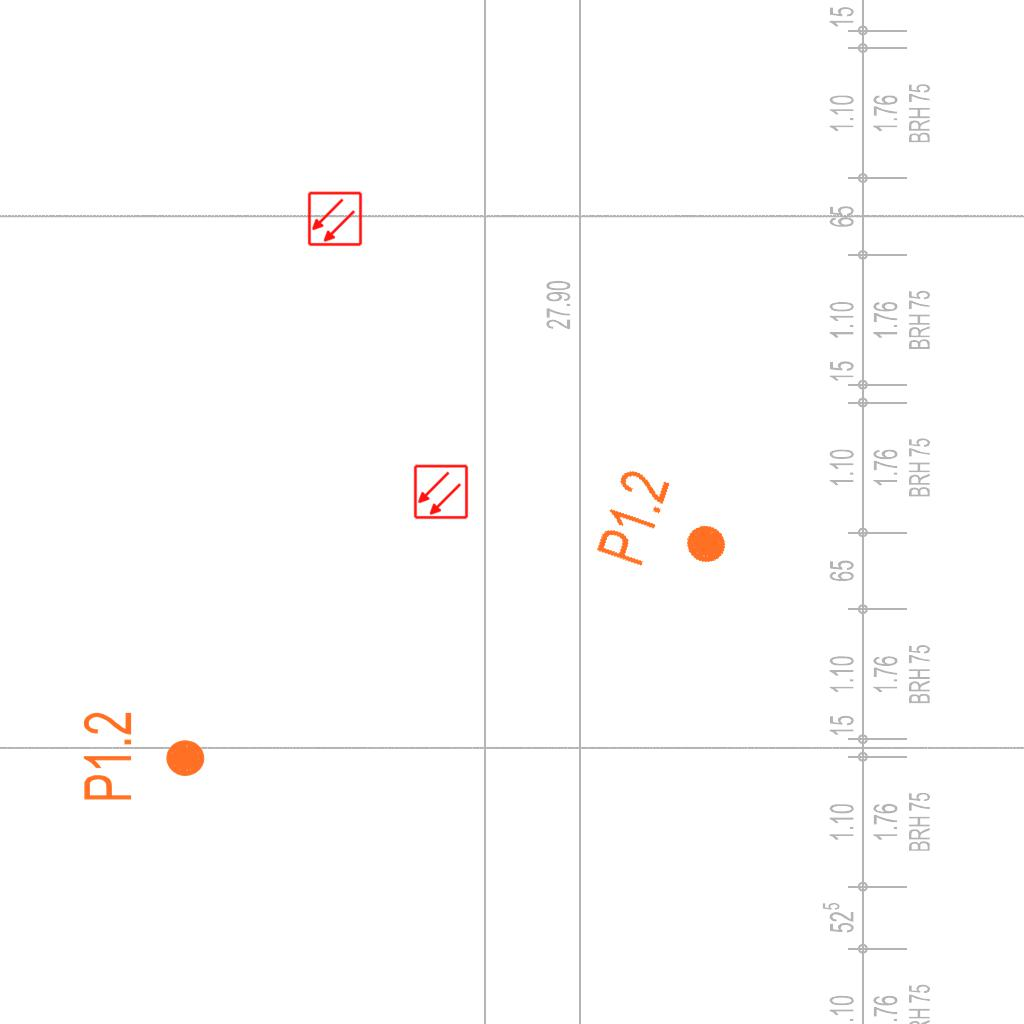Downlight_LED_Einbauleuchten_Flur: (591, 464, 744, 594), (80, 710, 208, 803)
RMO_Rauchmelder_optischer: (307, 191, 363, 247), (413, 464, 469, 520)
